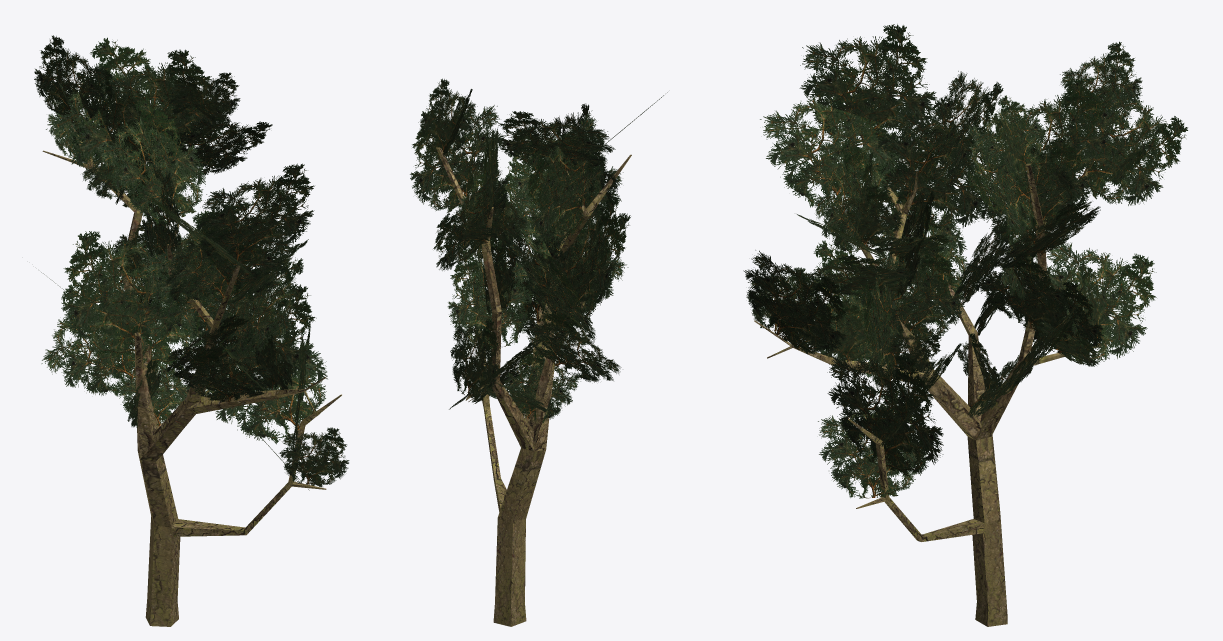
The model's file is tree06.fbx.
3 views of the same model, side by side, from view 1: azimuth 30°, elevation 25°; view 2: azimuth 150°, elevation 25°; view 3: azimuth 270°, elevation 25° (orthographic). The views are drawn at different scales.
Parts seen in each view (by area): view 1: treee06; view 2: treee06; view 3: treee06.
Part boxes in pixels (bbox=[...]): treee06: bbox=[34, 35, 349, 626]; treee06: bbox=[410, 78, 667, 626]; treee06: bbox=[743, 24, 1187, 626].
Size of the model in its own units: 3775 by 7564 by 5809.
